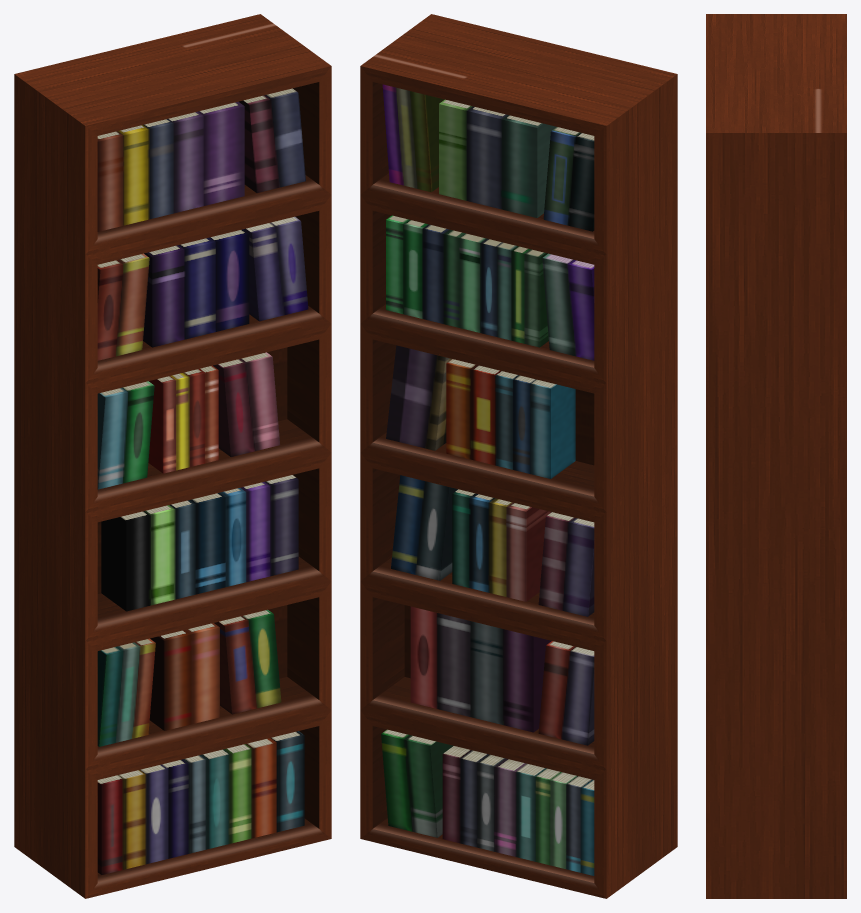
File: BookcaseDoorDouble.FBX
3 renders of one model, left to right at view 1: azimuth 30°, elevation 25°; view 2: azimuth 150°, elevation 25°; view 3: azimuth 270°, elevation 25°, orthographic.
Visible parts, largest first — view 1: BookcaseDoorDouble; view 2: BookcaseDoorDouble; view 3: BookcaseDoorDouble.
Boxes of the visible parts, bbox=[...] form: BookcaseDoorDouble: bbox=[14, 14, 331, 898]; BookcaseDoorDouble: bbox=[360, 14, 677, 898]; BookcaseDoorDouble: bbox=[706, 14, 846, 898].
Bounding box in the file's own units: 2 × 6 × 1.
